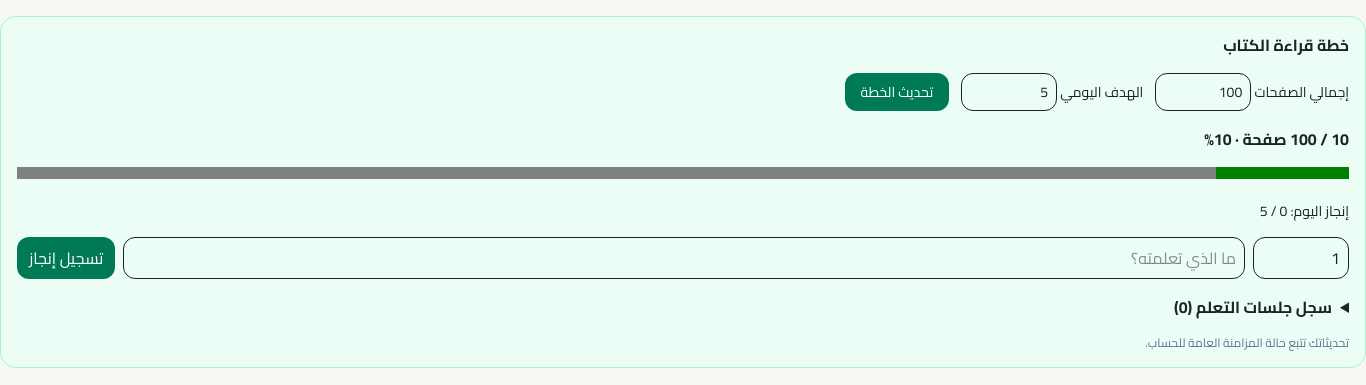
Test: learning tracker › blocks progress past the total
This screenshot has width=1366, height=385.
Replace the text in the number field named "الكمية المنجزة" with "101" at (1301, 258), box [1253,237,1349,279]
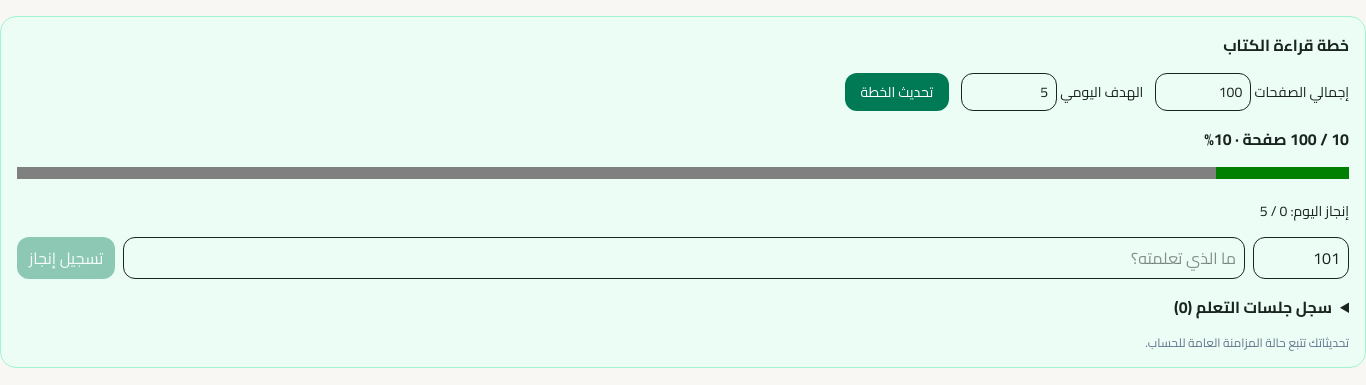
Result: the button "تسجيل إنجاز" is disabled at [17,237,115,279]
